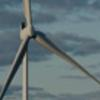faulty: (17, 20, 42, 46)
